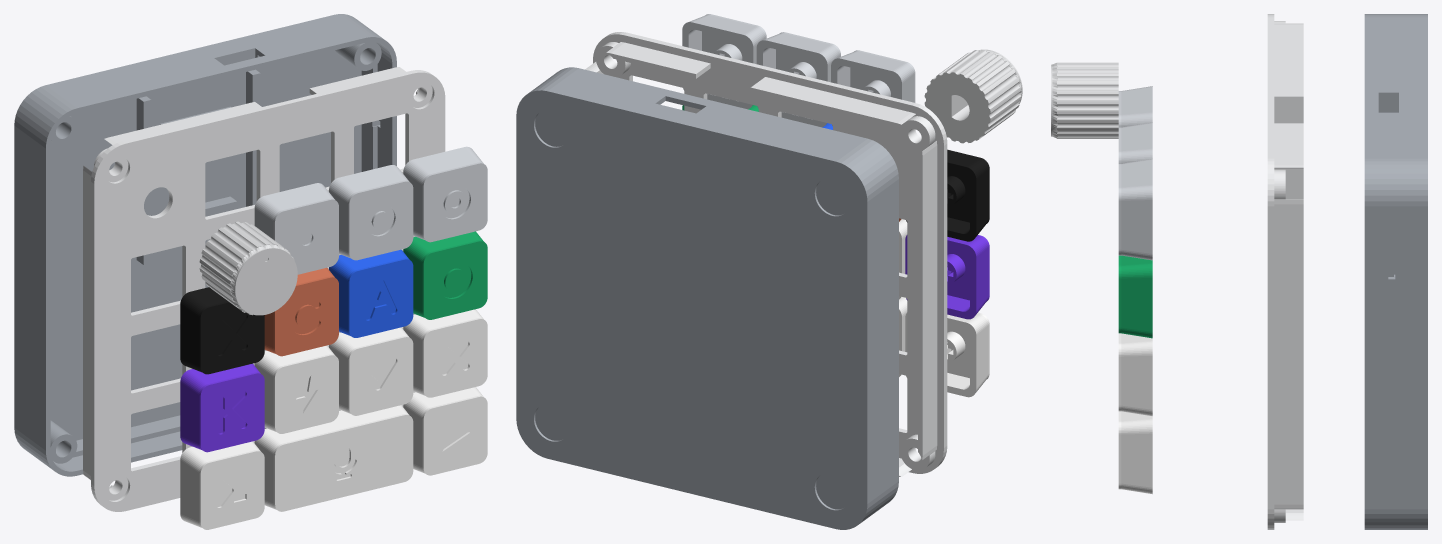
File: orchestrator-pad-exploded.glb
3 views of the same model, side by side, from view 1: azimuth 30°, elevation 25°; view 2: azimuth 150°, elevation 25°; view 3: azimuth 270°, elevation 25° (orthographic).
Visible parts, largest first — view 1: tray, plate, voice, knob, kiro, prompt, preset3, preset2, send, reject, approve, run (+5 smaller); view 2: tray, plate, knob, codex, prompt, kiro, preset2, preset3, preset1; view 3: tray, plate, knob, preset3, reject, send, opencode, preset2, preset1.
Boxes of the visible parts, box(x1,y1,x2,y2) form: tray: box(14, 14, 396, 476); plate: box(83, 67, 445, 511); voice: box(254, 405, 413, 511); knob: box(199, 221, 297, 315); kiro: box(180, 363, 264, 452); prompt: box(180, 441, 264, 529); preset3: box(403, 146, 487, 242); preset2: box(329, 165, 413, 260); send: box(403, 387, 487, 475); reject: box(403, 309, 487, 397); approve: box(329, 327, 413, 415); run: box(254, 345, 338, 433); tray: box(516, 67, 898, 529); plate: box(585, 32, 947, 476); knob: box(924, 49, 1022, 143); codex: box(906, 149, 989, 241); prompt: box(905, 312, 989, 397); kiro: box(905, 235, 989, 319); preset2: box(756, 32, 840, 127); preset3: box(682, 14, 766, 109); preset1: box(831, 50, 915, 126); tray: box(1364, 14, 1427, 529); plate: box(1267, 14, 1303, 529); knob: box(1051, 62, 1118, 138); preset3: box(1118, 158, 1152, 260); reject: box(1118, 333, 1152, 416); send: box(1118, 411, 1152, 494); opencode: box(1118, 255, 1152, 338); preset2: box(1118, 122, 1152, 163); preset1: box(1118, 86, 1152, 127).
Bounding box in the file's own units: 90 × 90 × 83.5.
